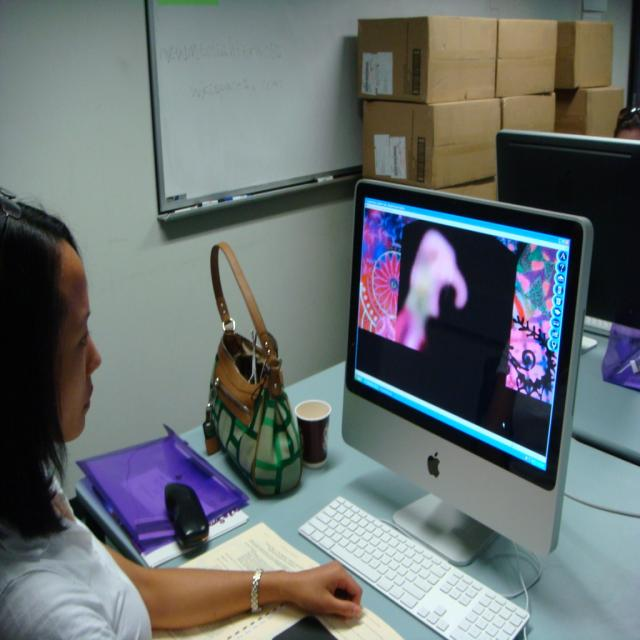desk: (35, 291, 640, 640)
keyboard: (296, 494, 532, 639)
mouse: (162, 481, 210, 552), (272, 614, 336, 640), (327, 586, 362, 628)
person: (2, 191, 284, 633), (614, 106, 640, 141)
tv: (342, 177, 594, 558)
